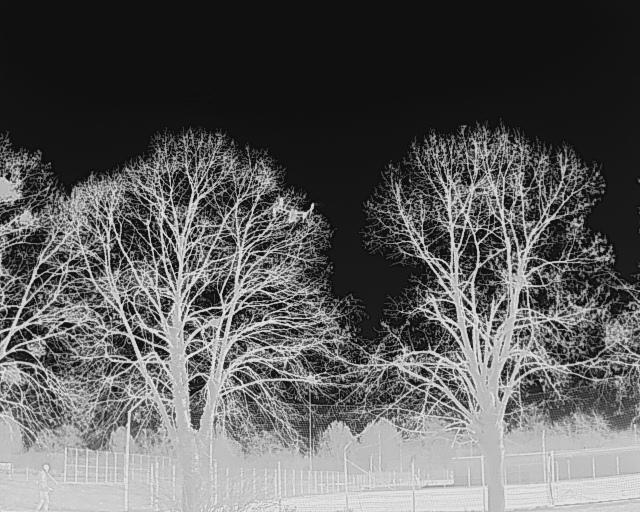drone: (265, 193, 325, 232)
